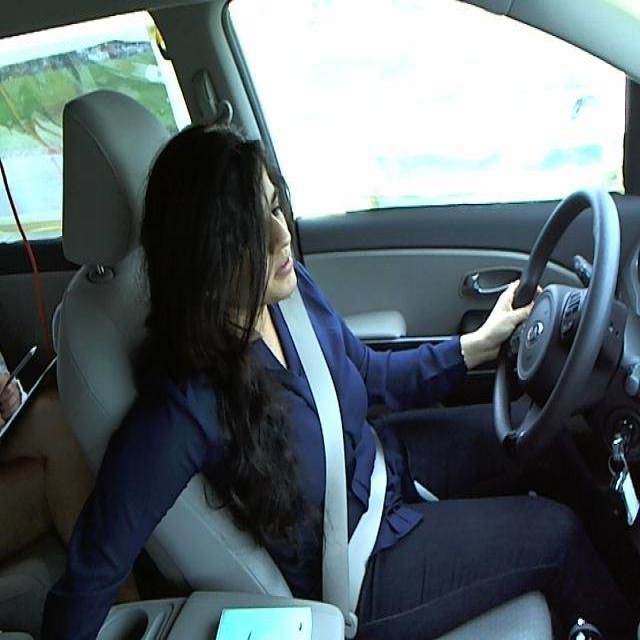seatbelt: (285, 311, 385, 592)
